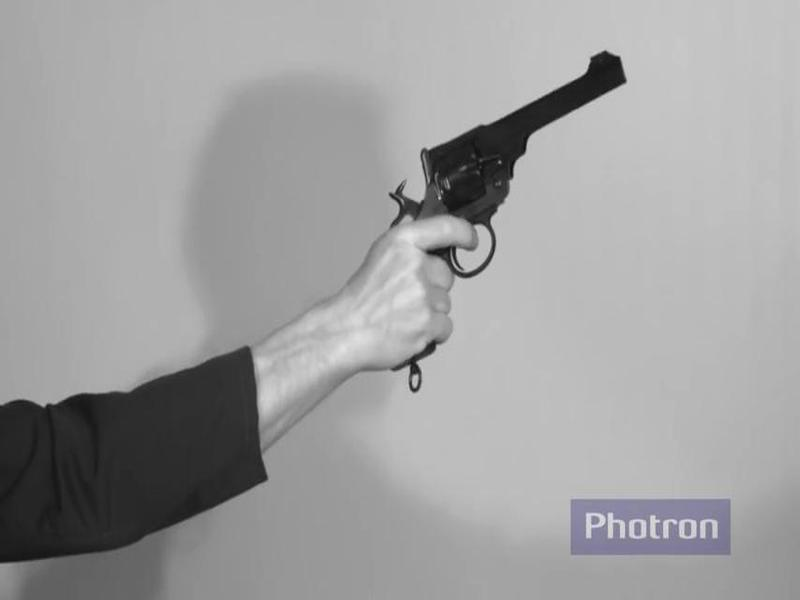Revolver: (360, 49, 654, 388)
